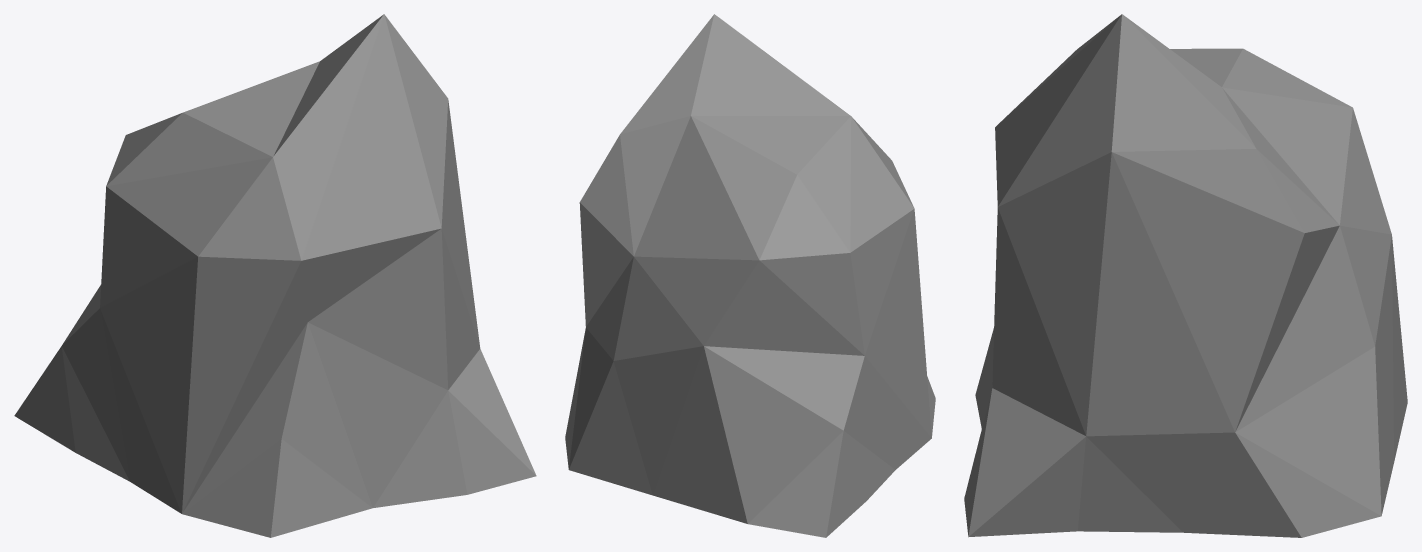
The model's file is Stone.fbx.
3 views of the same model, side by side, from view 1: azimuth 30°, elevation 25°; view 2: azimuth 150°, elevation 25°; view 3: azimuth 270°, elevation 25° (orthographic). The views are drawn at different scales.
Parts seen in each view (by area): view 1: Stone; view 2: Stone; view 3: Stone.
Boxes of the visible parts, x1=… form: Stone: x1=14, y1=14, x2=536, y2=537; Stone: x1=565, y1=14, x2=935, y2=537; Stone: x1=964, y1=14, x2=1407, y2=537.
Bounding box in the file's own units: 1.7 × 2.07 × 1.74.
